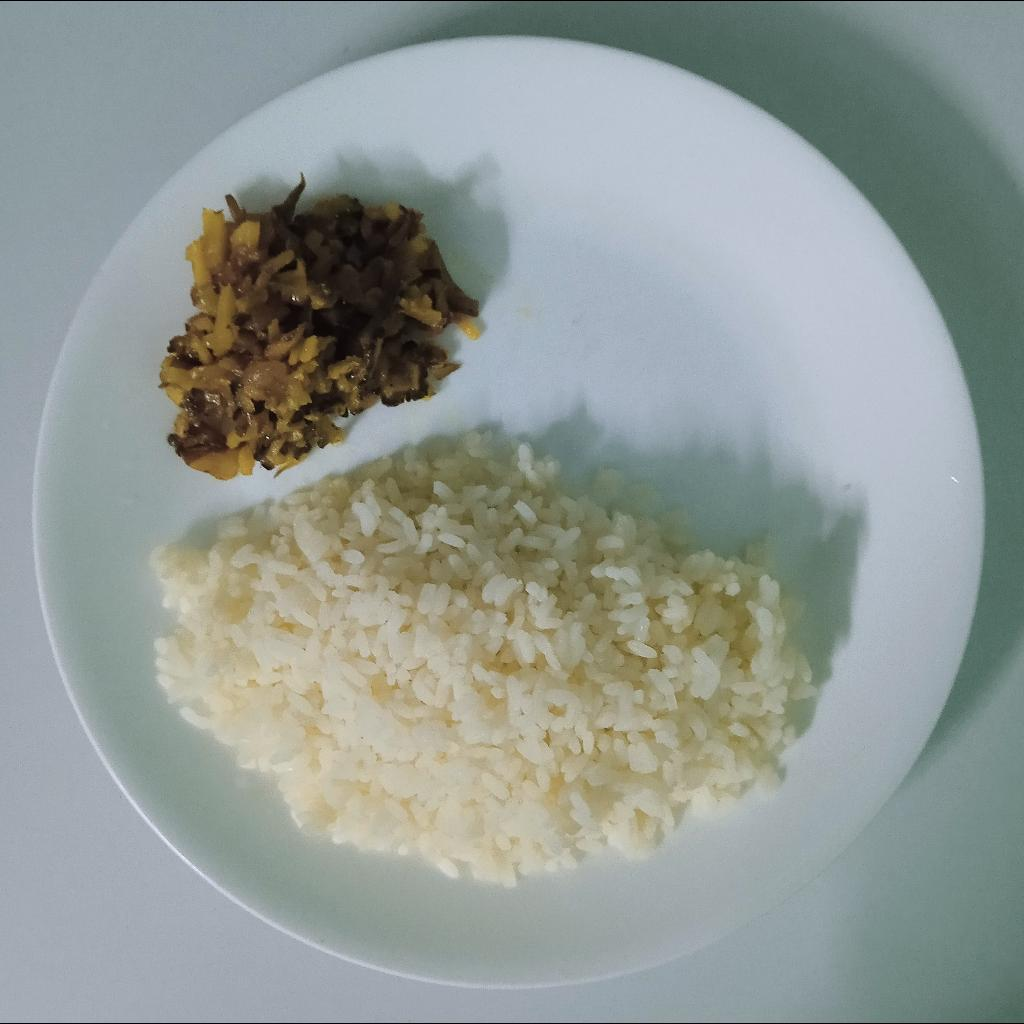rice: (153, 426, 824, 886)
vegetable: (156, 173, 481, 482)
